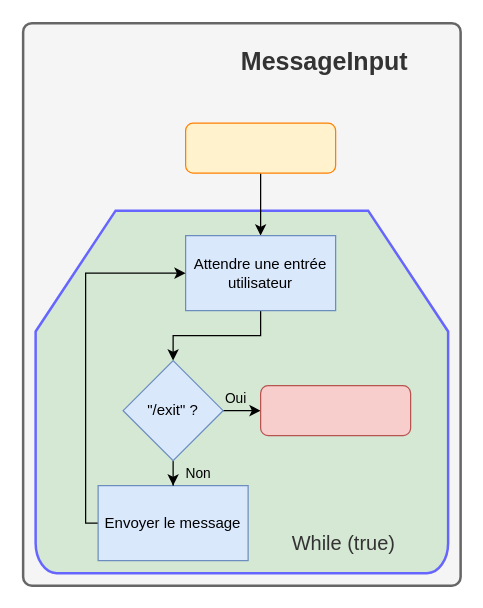
Image size: 483x608. Some labels were removed from this diagram. Here are the shapes that lost their labels. From the top down, the centre of each, then its label:
At point 260,147: "run()".
At point 335,410: "Arrêter le programme".
